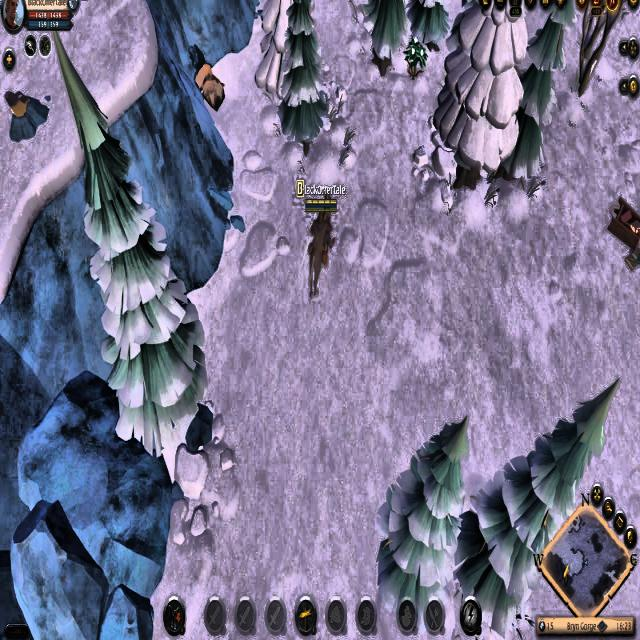copperore: (3, 78, 50, 143)
limestone: (193, 55, 225, 112)
